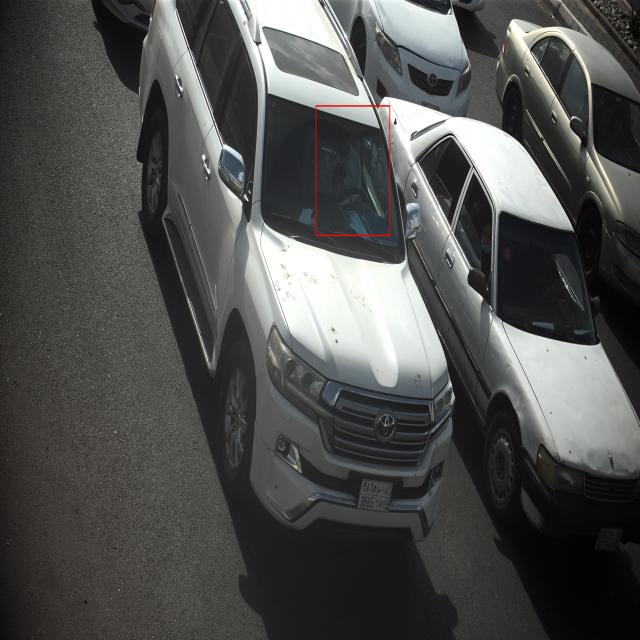windshield: (261, 85, 406, 271), (495, 204, 600, 352), (592, 81, 640, 174)
